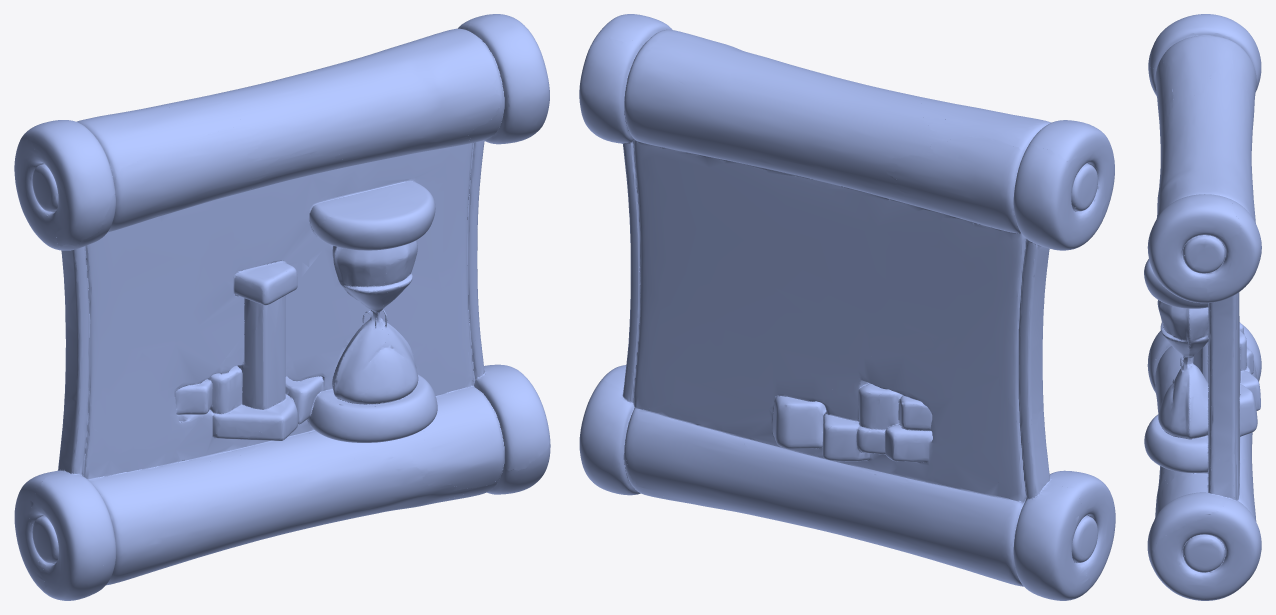
Rendered from historia.glb.
3 views of the same model, side by side, from view 1: azimuth 30°, elevation 25°; view 2: azimuth 150°, elevation 25°; view 3: azimuth 270°, elevation 25° (orthographic). The views are drawn at different scales.
Visible parts, largest first — view 1: model; view 2: model; view 3: model.
Part boxes in pixels (x1,y1,x2,y2): model: (14, 14, 550, 600); model: (579, 14, 1115, 600); model: (1144, 14, 1261, 600).
Size of the model in its own units: 1.8 by 1.66 by 0.4482.
